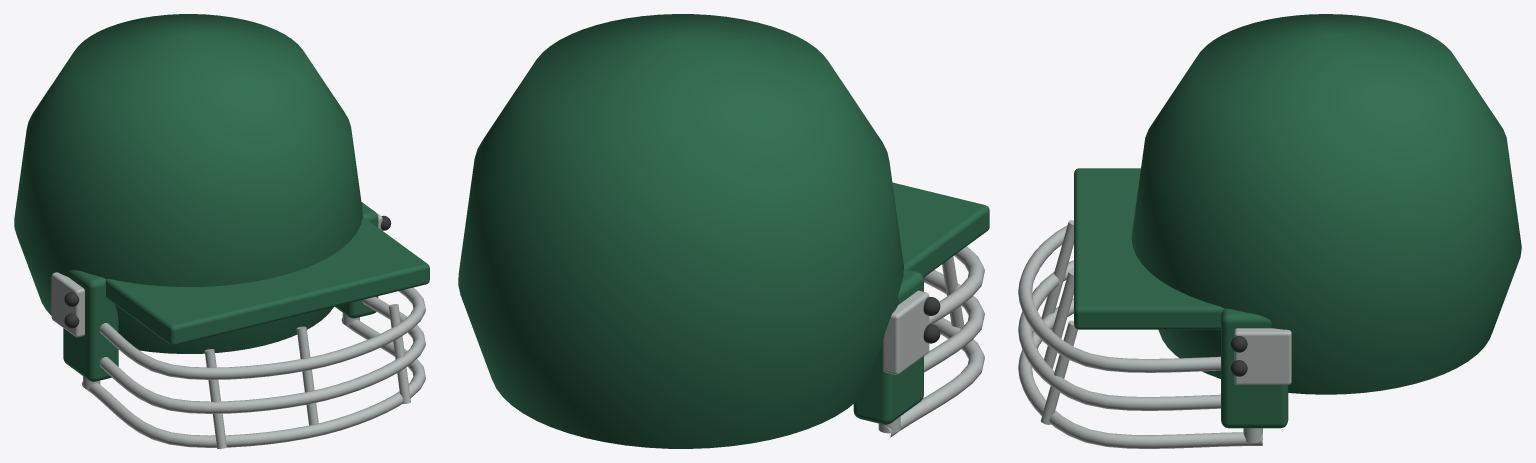
File: cricket-ground-and-pavilion-cricket-helmet-9c686403__31319.glb
3 renders of one model, left to right at view 1: azimuth 30°, elevation 25°; view 2: azimuth 150°, elevation 25°; view 3: azimuth 270°, elevation 25°, orthographic. The views are drawn at different scales.
Parts seen in each view (by area): view 1: cricket-helmet; view 2: cricket-helmet; view 3: cricket-helmet.
Boxes of the visible parts, <box> form: cricket-helmet: <box>14,14,429,448</box>; cricket-helmet: <box>458,14,989,448</box>; cricket-helmet: <box>1018,14,1521,448</box>.
Bounding box in the file's own units: 0.3 × 0.265 × 0.36.
